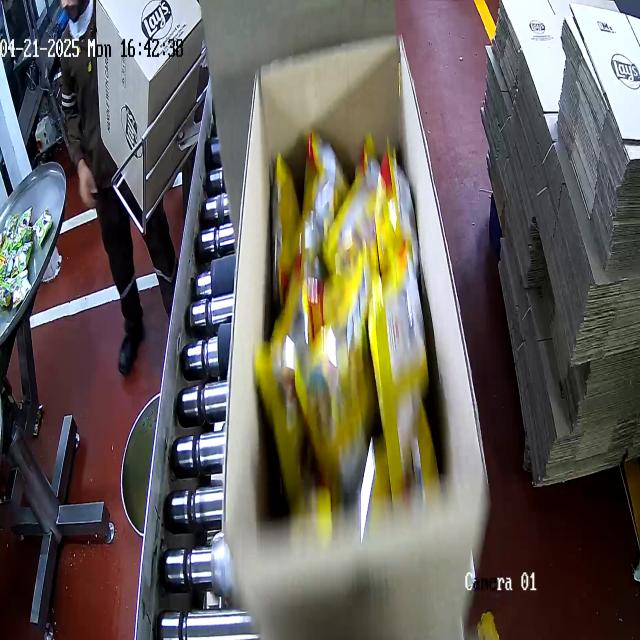SALTED: (245, 132, 429, 527)
